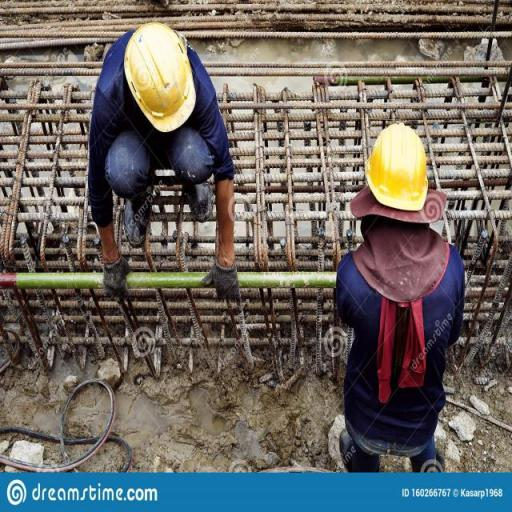helmet: (122, 20, 197, 134), (364, 120, 434, 210)
